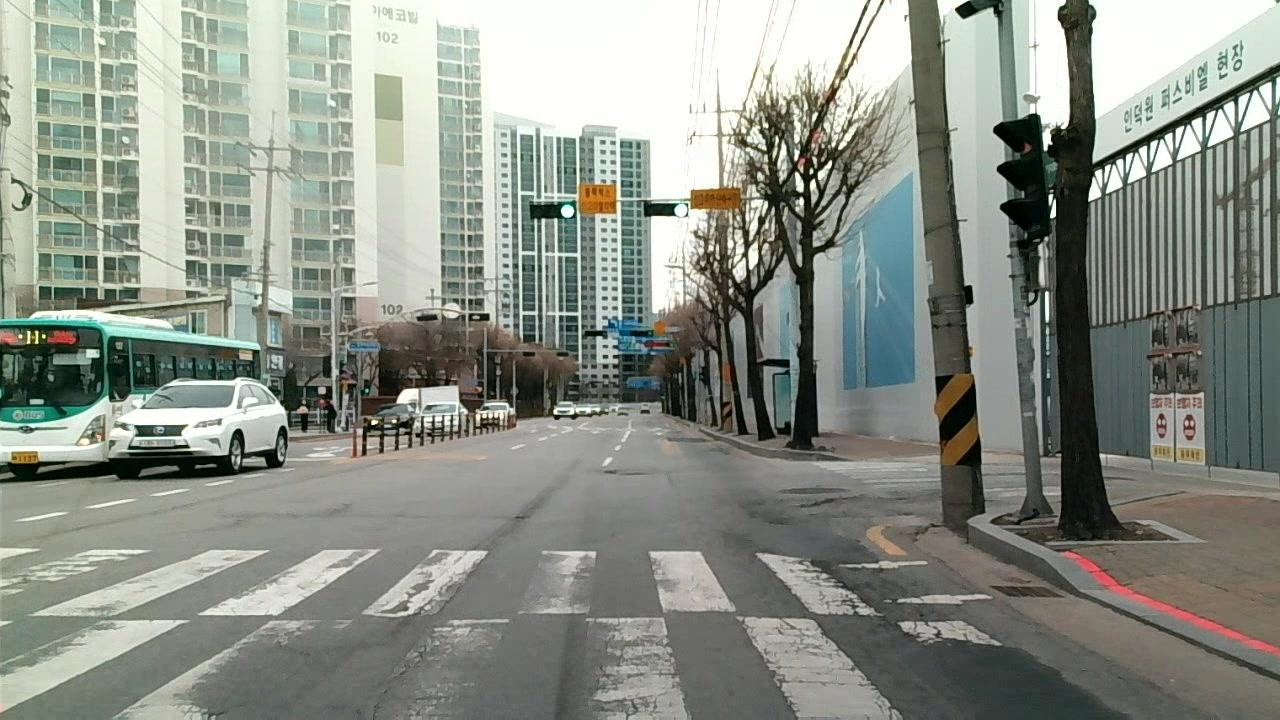vcrack: (812, 560, 918, 634), (368, 652, 429, 719), (434, 551, 492, 611)
